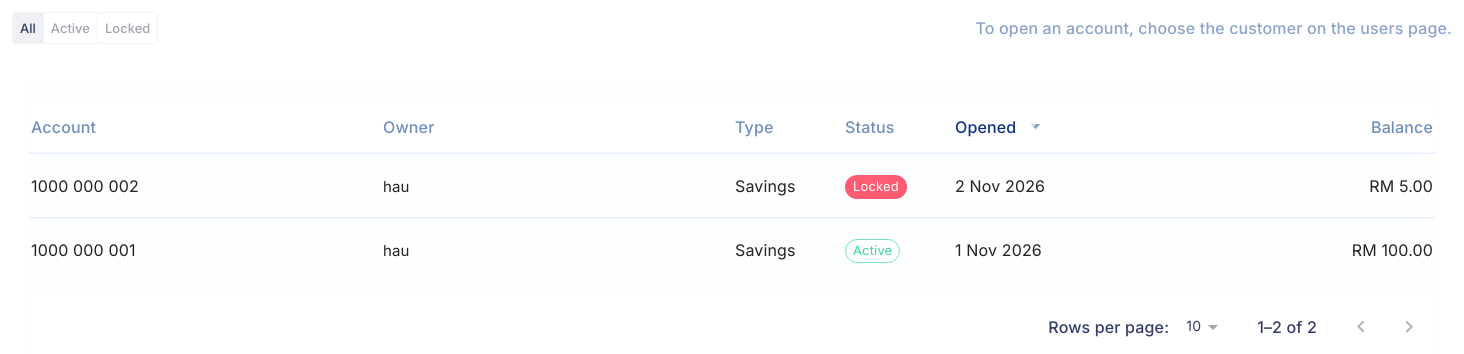
Scenario: admin accounts page › lists every account with its owner, and filters by status on the server
Expected: the text "Locked" is shown, [853,178,899,194]
Expected: the column heading "Balance" is shown, [1083,101,1435,153]
Click the button "Locked": (128, 28) [97,12,158,44]
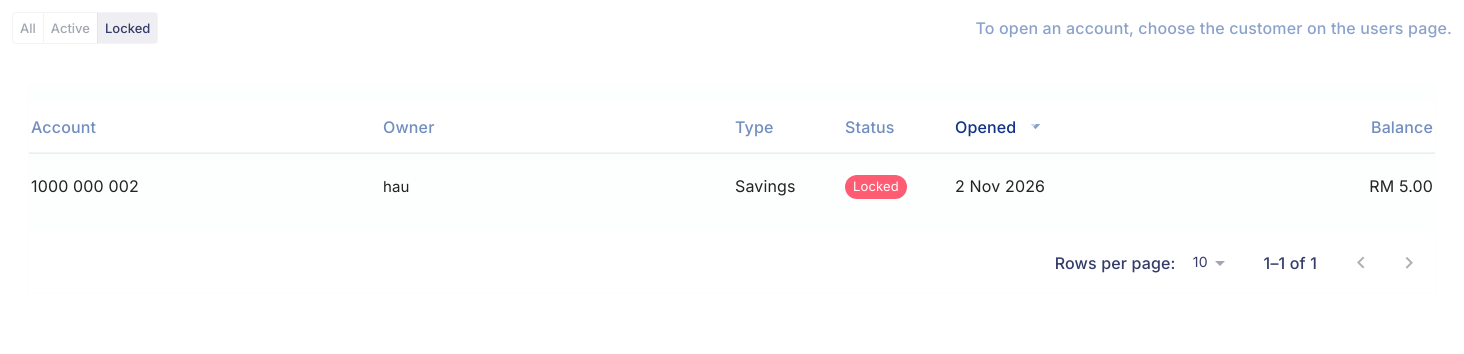
Expected: the text "1000 000 002" is shown, [31,176,139,196]
Result: the text "1000 000 001" is gone
